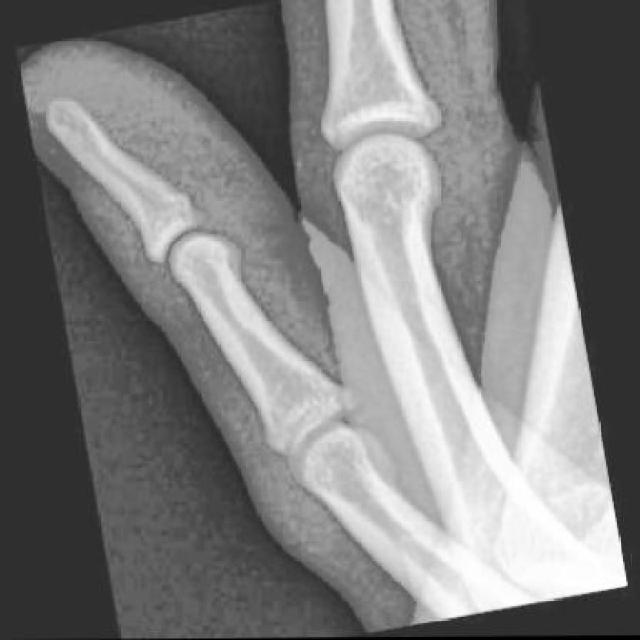Fracture: (57, 114, 125, 184)
